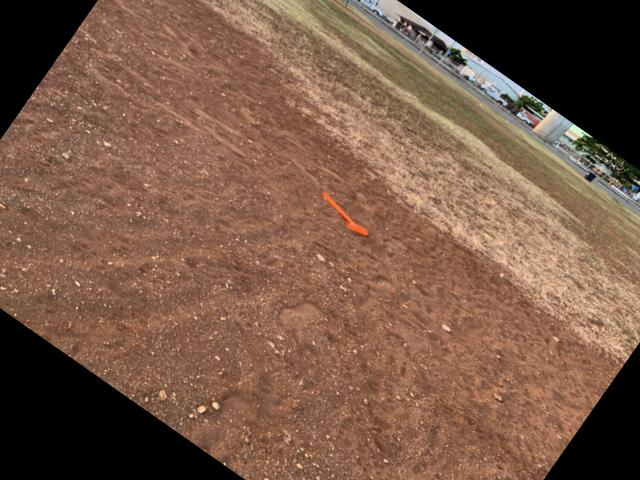hammer: (310, 188, 372, 239)
